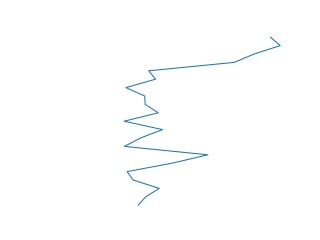crevasseRiverChannelBar: (119, 32, 286, 209)
